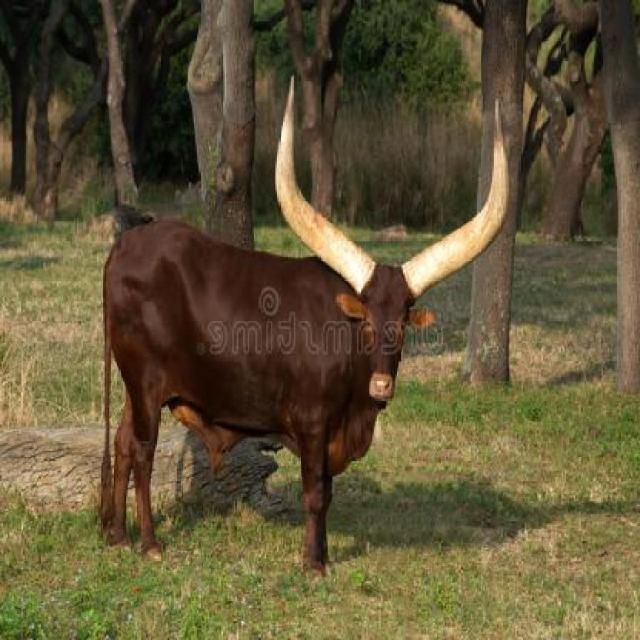Cow: (92, 97, 514, 580)
